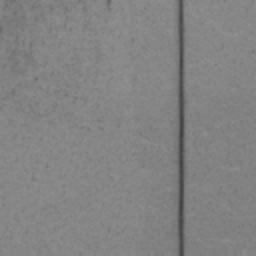Scratches: (177, 0, 185, 256)
